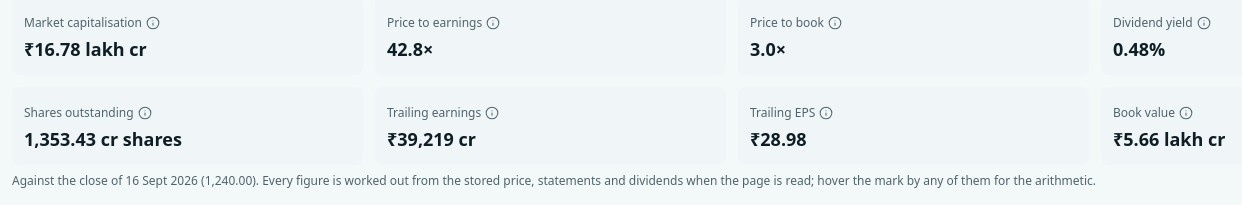
Test: ValuationPanel › explains each figure on hover, in the platform's own words
The width and height of the screenshot is (1242, 205).
Hover over the button named "What Price to earnings means": (493, 23) [486,16,500,30]
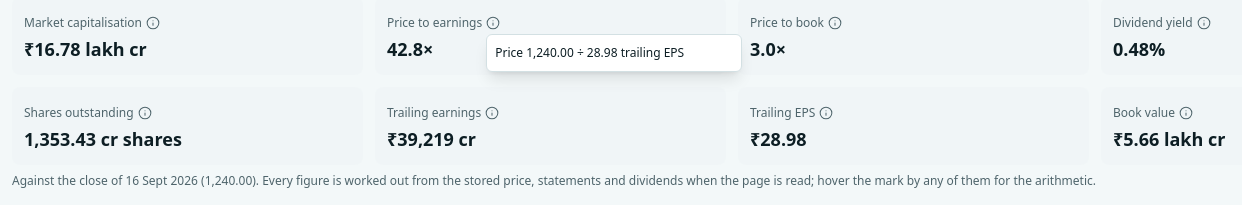
expect the tooltip reads "Price 1,240.00 ÷ 28.98 trailing EPS": met, box [495,44,684,61]
